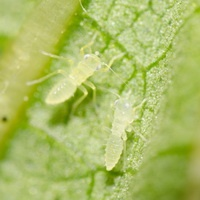insect: (0, 0, 199, 199)
